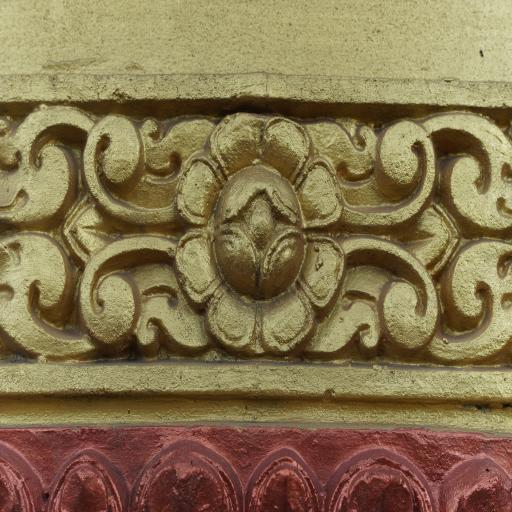hoa: (168, 115, 351, 353)
la: (75, 233, 185, 352), (82, 110, 186, 230), (341, 113, 433, 246), (0, 103, 89, 223), (1, 233, 83, 356), (348, 240, 437, 352), (433, 114, 512, 240), (436, 243, 512, 359)
